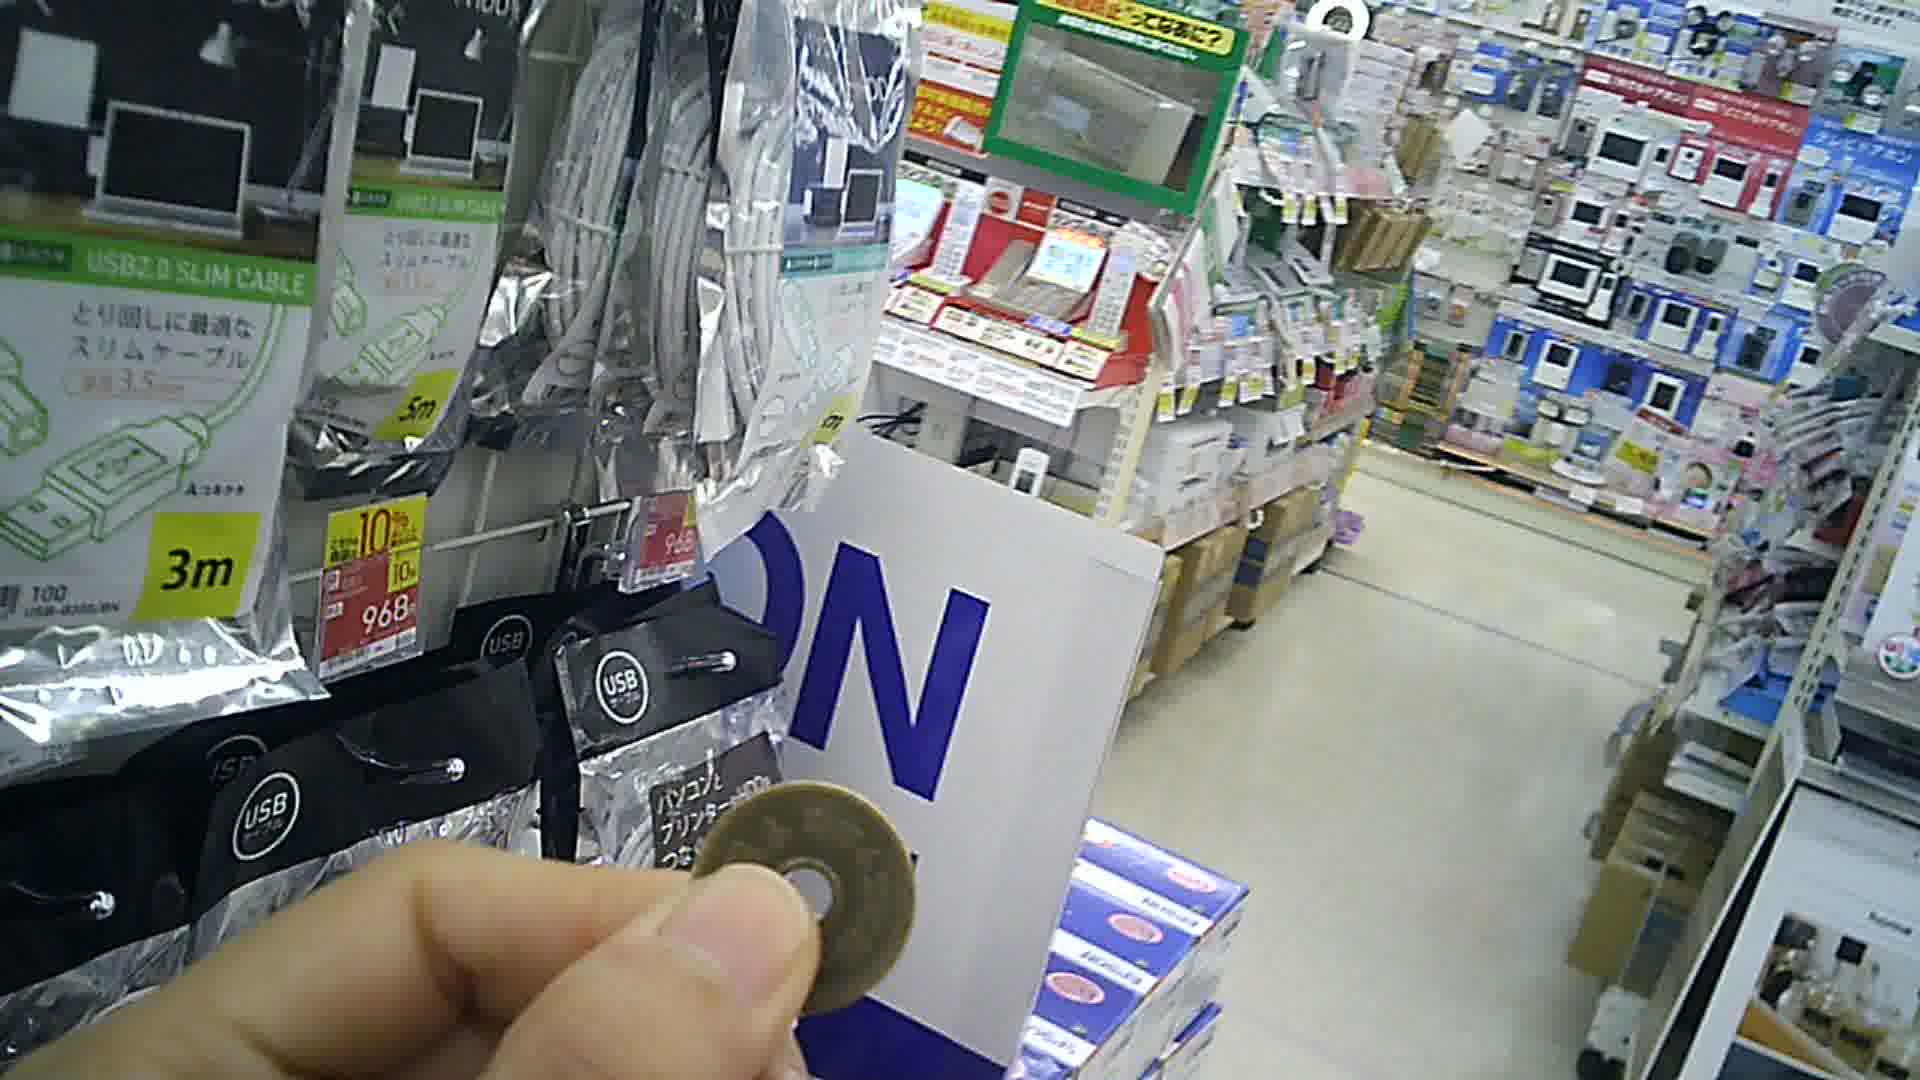5 Yen: (669, 781, 938, 1019)
